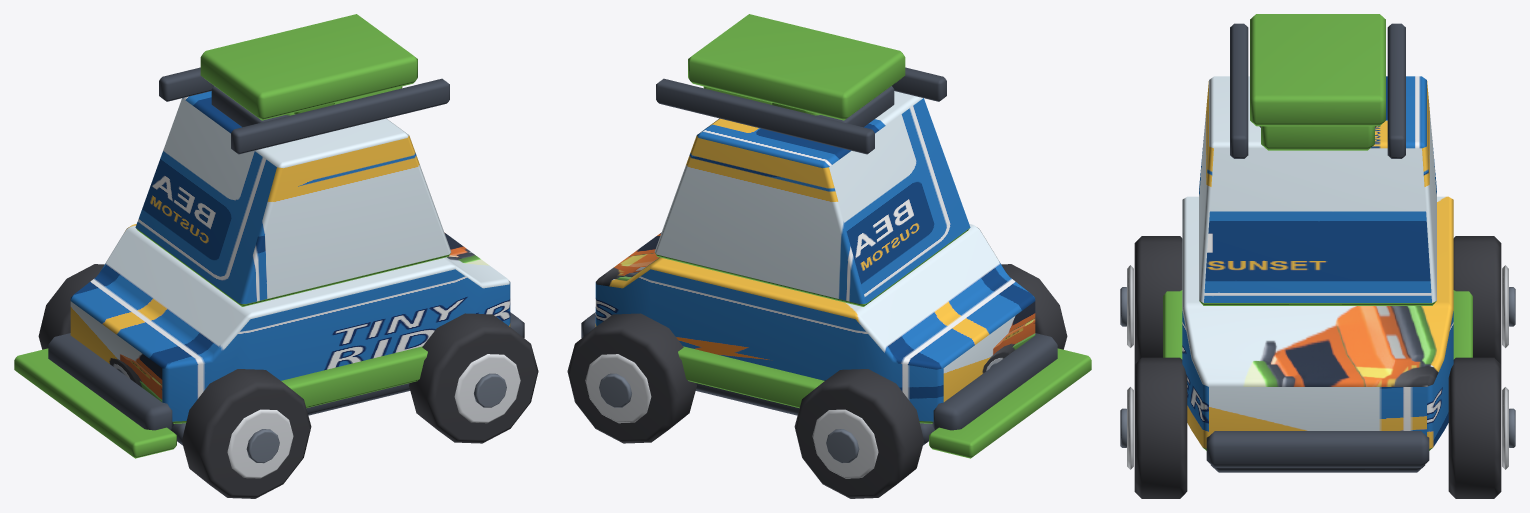
3 views of the same model, side by side, from view 1: azimuth 30°, elevation 25°; view 2: azimuth 150°, elevation 25°; view 3: azimuth 270°, elevation 25° (orthographic). The views are drawn at different scales.
Visible parts, largest first — view 1: CC-02_cabin, CC-02_connected_shell, utility load, Tire, Tire.002, utility rail, custom chin, front bumper, custom side guard, Rim.002, Rim, Tire.001 (+5 smaller); view 2: CC-02_cabin, CC-02_connected_shell, utility load, Tire.001, Tire.003, utility rail.001, custom chin, front bumper, custom side guard.001, Rim.003, Rim.001, Tire (+5 smaller); view 3: CC-02_cabin, CC-02_connected_shell, utility load, rear bumper, Tire.002, Tire.003, Tire, Tire.001, custom equipment, utility rail, utility rail.001, custom side guard (+6 smaller).
Part boxes in pixels (left/top/right/bottom): CC-02_cabin: left=135, top=91, right=451, bottom=306; CC-02_connected_shell: left=70, top=224, right=510, bottom=423; utility load: left=200, top=14, right=417, bottom=120; Tire: left=182, top=369, right=311, bottom=498; Tire.002: left=409, top=313, right=538, bottom=443; utility rail: left=231, top=78, right=449, bottom=154; custom chin: left=14, top=348, right=176, bottom=458; front bumper: left=48, top=333, right=173, bottom=430; custom side guard: left=281, top=346, right=427, bottom=408; Rim.002: left=454, top=354, right=520, bottom=423; Rim: left=227, top=409, right=293, bottom=478; Tire.001: left=38, top=264, right=104, bottom=349; CC-02_cabin: left=654, top=91, right=970, bottom=306; CC-02_connected_shell: left=595, top=224, right=1035, bottom=423; utility load: left=688, top=14, right=905, bottom=120; Tire.001: left=794, top=369, right=923, bottom=498; Tire.003: left=567, top=313, right=696, bottom=443; utility rail.001: left=656, top=78, right=874, bottom=154; custom chin: left=929, top=348, right=1091, bottom=458; front bumper: left=932, top=333, right=1057, bottom=430; custom side guard.001: left=678, top=346, right=824, bottom=408; Rim.003: left=585, top=354, right=651, bottom=423; Rim.001: left=812, top=409, right=878, bottom=478; Tire: left=1001, top=264, right=1067, bottom=349; CC-02_cabin: left=1199, top=76, right=1436, bottom=305; CC-02_connected_shell: left=1182, top=196, right=1453, bottom=450; utility load: left=1250, top=14, right=1385, bottom=126; rear bumper: left=1206, top=431, right=1429, bottom=467; Tire.002: left=1134, top=357, right=1187, bottom=498; Tire.003: left=1448, top=357, right=1501, bottom=498; Tire: left=1134, top=236, right=1182, bottom=364; Tire.001: left=1453, top=236, right=1501, bottom=364; custom equipment: left=1261, top=126, right=1374, bottom=150; utility rail: left=1230, top=23, right=1248, bottom=158; utility rail.001: left=1387, top=23, right=1405, bottom=158; custom side guard: left=1163, top=290, right=1182, bottom=359.
Size of the model in its own units: 253 by 212 by 195.
